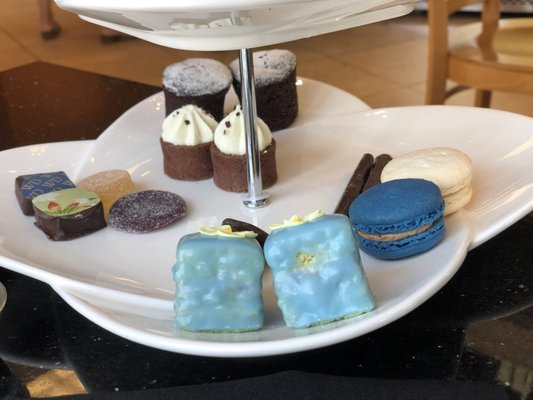curry: (1, 50, 533, 399)
pasta: (424, 0, 533, 113)
sushi: (263, 212, 377, 329), (171, 224, 267, 335), (211, 106, 277, 196), (233, 49, 299, 132), (162, 57, 236, 121), (160, 105, 217, 181), (31, 187, 107, 241), (107, 190, 188, 233), (76, 169, 137, 219)
